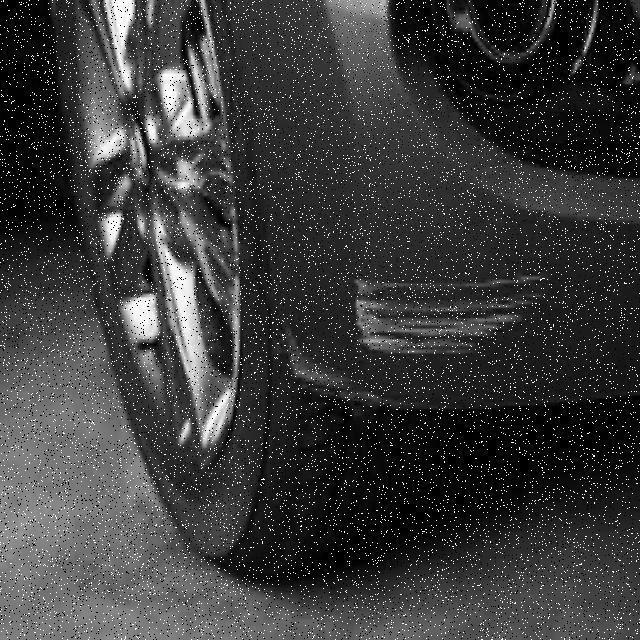front-bumper-dent: (221, 7, 637, 461)
